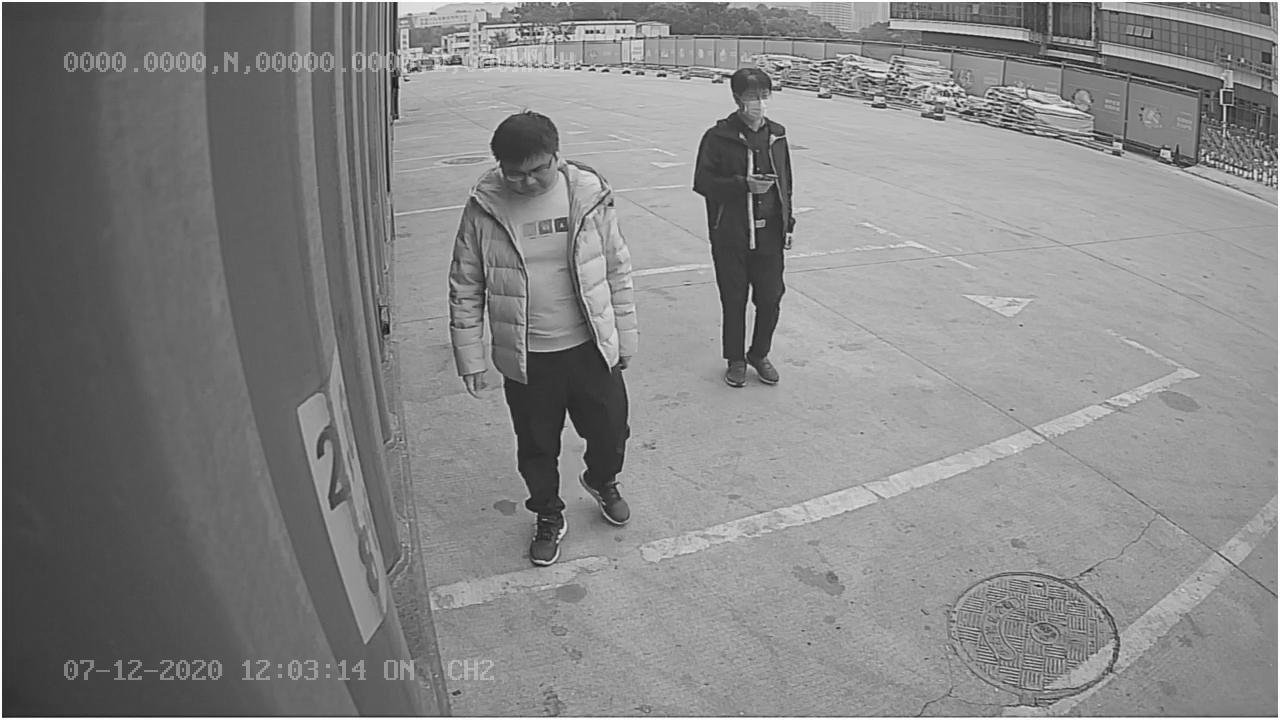person: (443, 106, 641, 566), (688, 50, 800, 391)
